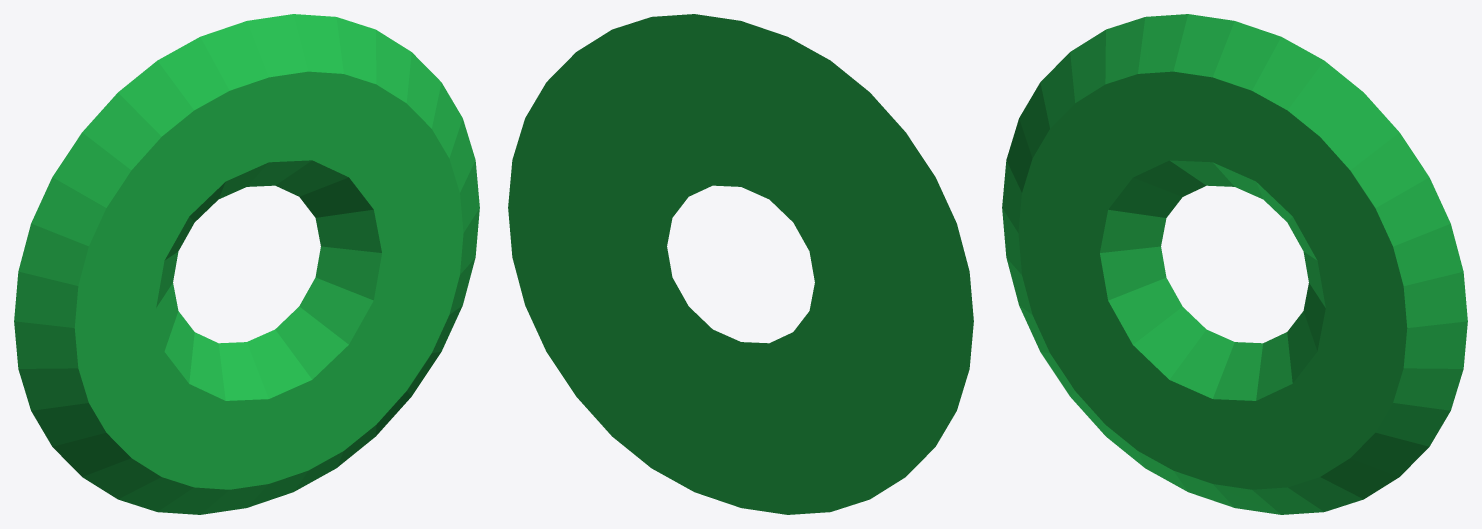
The model's file is ring.obj.
3 renders of one model, left to right at view 1: azimuth 30°, elevation 25°; view 2: azimuth 150°, elevation 25°; view 3: azimuth 330°, elevation 25°, orthographic.
Parts seen in each view (by area): view 1: Object.1; view 2: Object.1; view 3: Object.1.
Boxes of the visible parts, box(x1,y1,x2,y2) form: Object.1: box(14, 14, 479, 514); Object.1: box(508, 14, 973, 514); Object.1: box(1002, 14, 1467, 514).
Bounding box in the file's own units: 10.18 × 10.18 × 0.8388.
